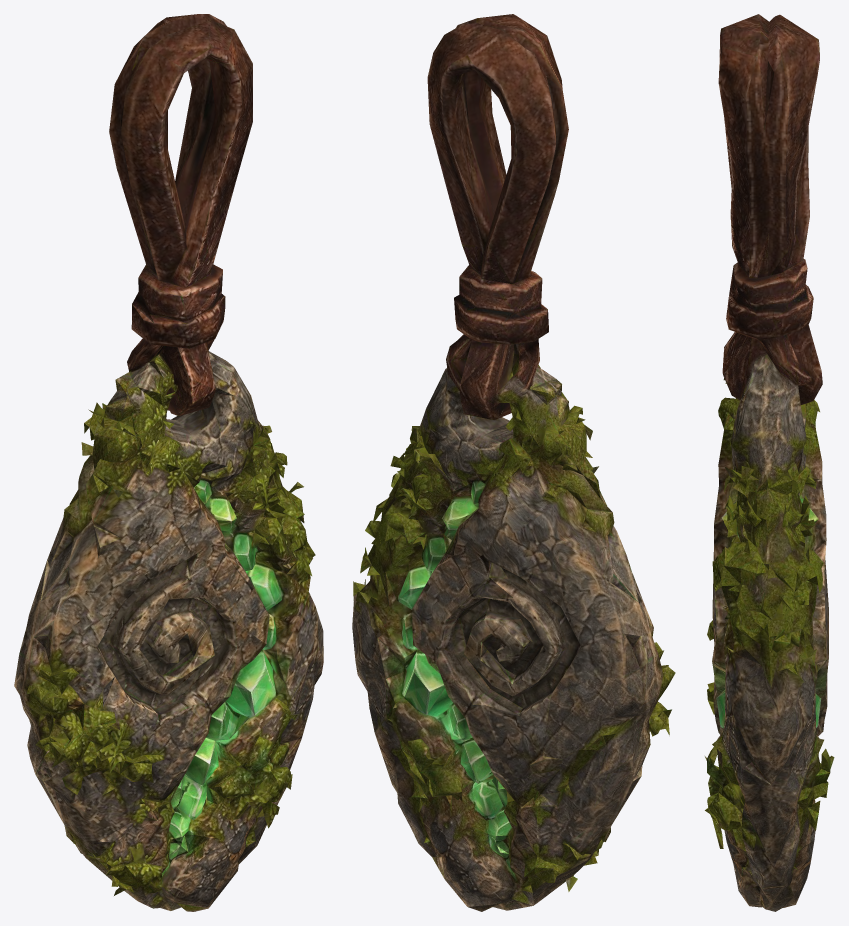
The model's file is set-earth-charm.glb.
3 views of the same model, side by side, from view 1: azimuth 30°, elevation 25°; view 2: azimuth 150°, elevation 25°; view 3: azimuth 270°, elevation 25° (orthographic).
Visible parts, largest first — view 1: Motion_Control; view 2: Motion_Control; view 3: Motion_Control.
Boxes of the visible parts, x1,y1,x2,y2 form: Motion_Control: (14,14,323,911); Motion_Control: (352,14,675,911); Motion_Control: (705,14,834,911).
Bounding box in the file's own units: 0.7129 × 2 × 0.2664.
Materials: 1 (1 with a texture image).
